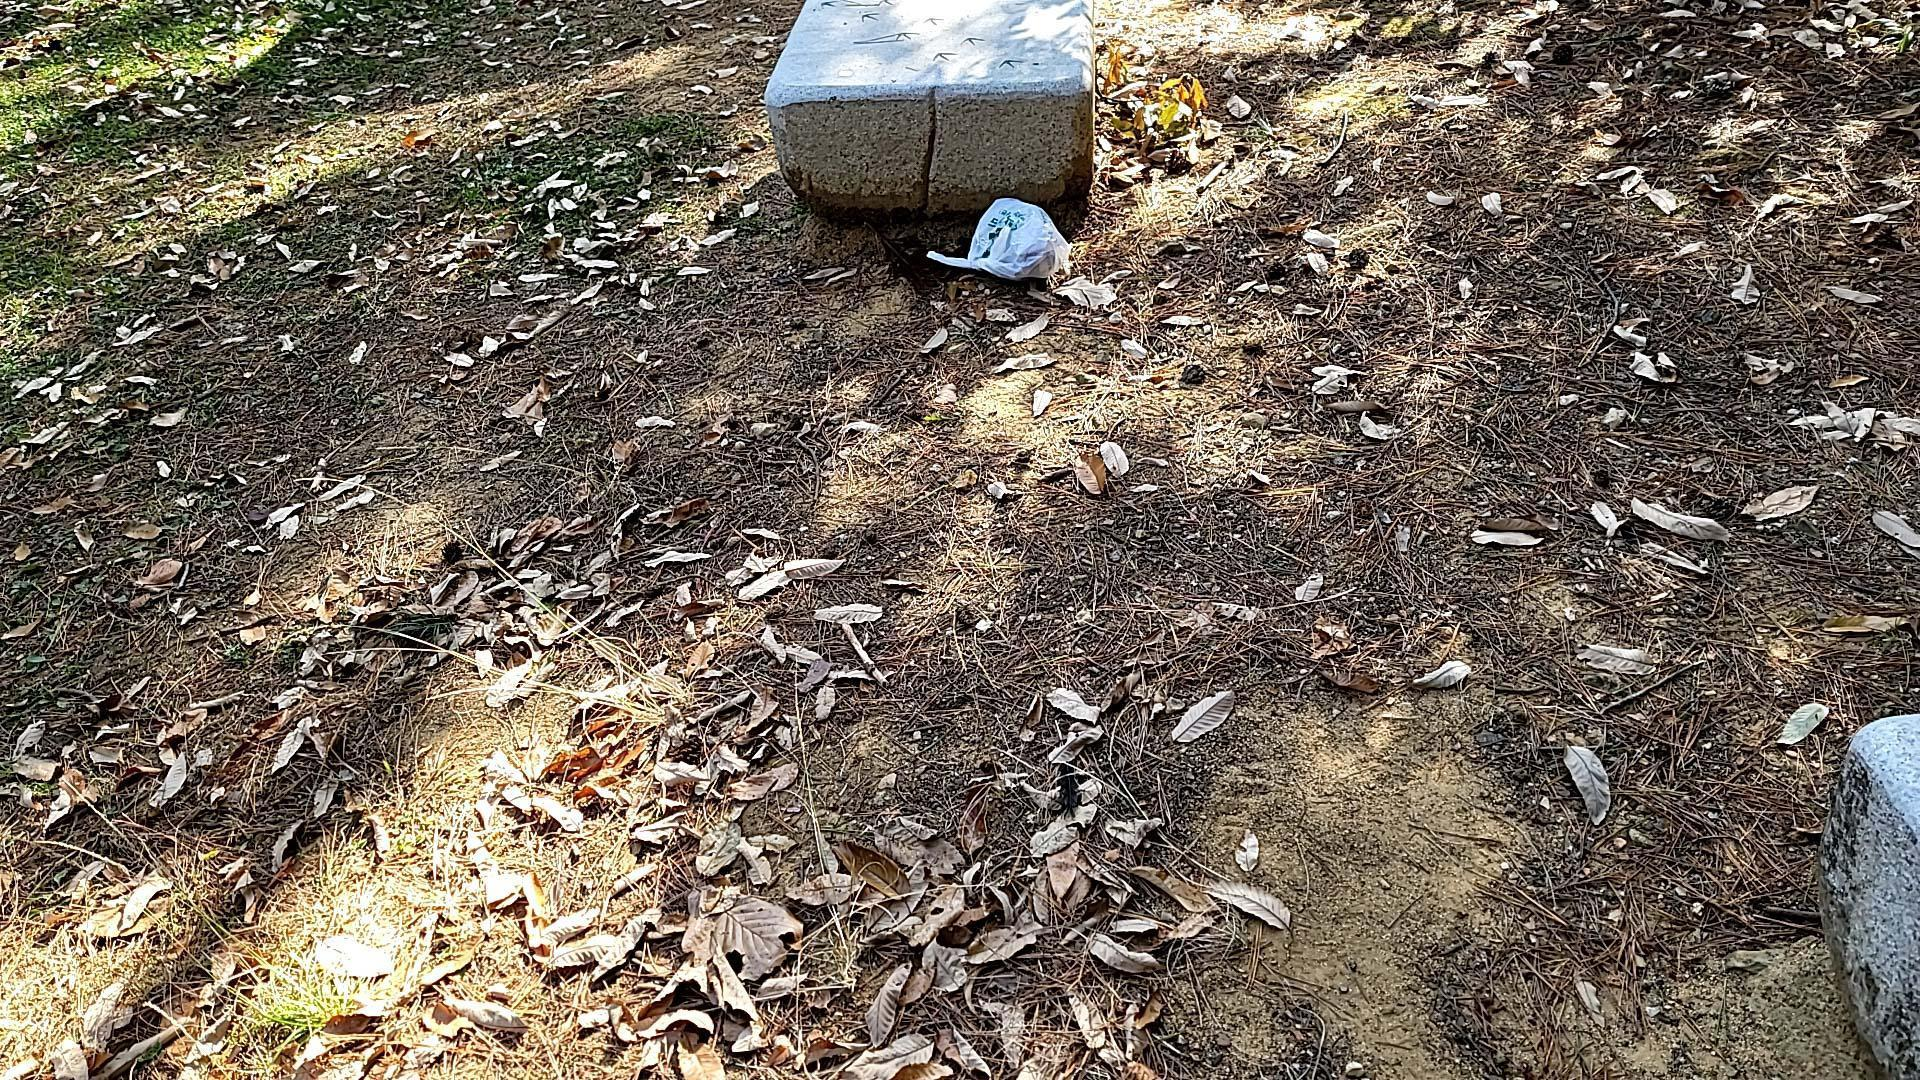white_bag: (920, 190, 1077, 291)
